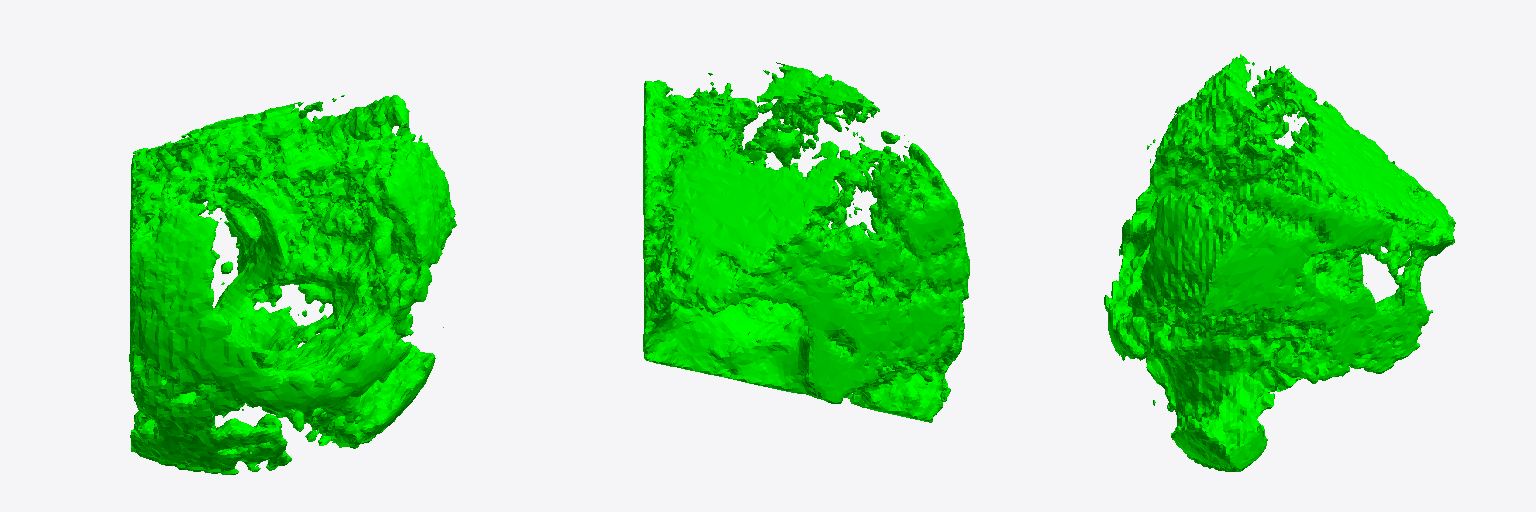
Rendered from B939XXXX-1_base_1.obj.
The picture shows the model from 3 angles: view 1: azimuth 30°, elevation 25°; view 2: azimuth 150°, elevation 25°; view 3: azimuth 270°, elevation 25°; orthographic projection.
Visible parts, largest first — view 1: 1_base; view 2: 1_base; view 3: 1_base.
Boxes of the visible parts, x1,y1,x2,y2 form: 1_base: [129, 95, 456, 474]; 1_base: [643, 62, 969, 422]; 1_base: [1104, 54, 1455, 471].
Size of the model in its own units: 217 by 219 by 205.